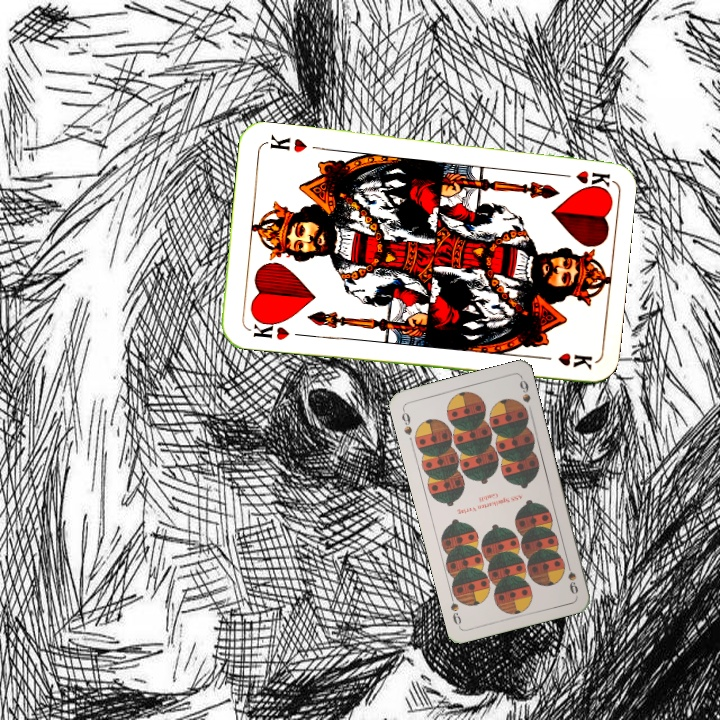HK: (552, 166, 611, 190), (245, 314, 292, 343)
S9: (563, 557, 581, 597), (398, 405, 415, 437)
